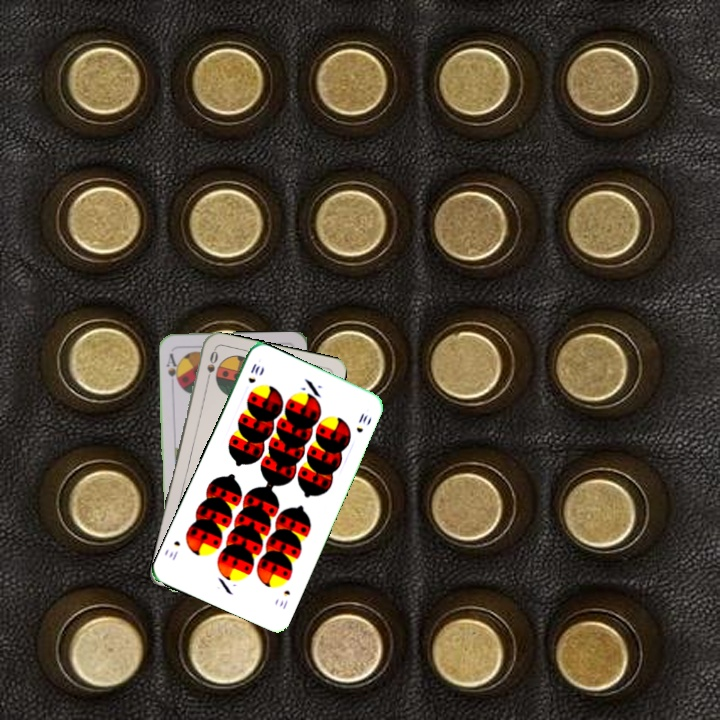S10: (244, 359, 262, 386), (275, 586, 293, 612)
SA: (162, 349, 182, 387)
SO: (202, 346, 221, 386)
